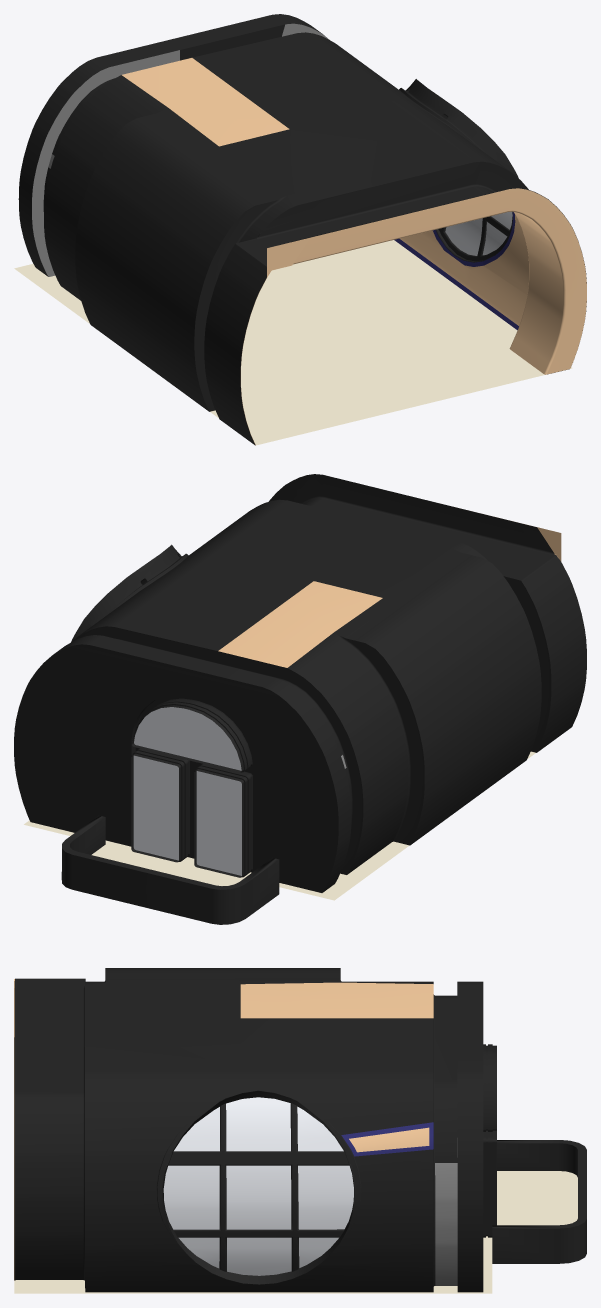
The model's file is Bedroom1.fbx.
3 views of the same model, one above another, from view 1: azimuth 30°, elevation 25°; view 2: azimuth 150°, elevation 25°; view 3: azimuth 270°, elevation 25° (orthographic).
Visible parts, largest first — view 1: Bedroom_001, BedroomWimdows_001; view 2: Bedroom_001, BedroomWimdows_001; view 3: Bedroom_001, BedroomWimdows_001.
Boxes of the visible parts, x1,y1,x2,y2 form: Bedroom_001: [14, 14, 586, 445]; BedroomWimdows_001: [445, 211, 512, 255]; Bedroom_001: [14, 474, 586, 924]; BedroomWimdows_001: [133, 707, 241, 875]; Bedroom_001: [14, 968, 586, 1293]; BedroomWimdows_001: [163, 1097, 353, 1275].
Bounding box in the file's own units: 945 × 511 × 1307.
Materials: 2 (1 with a texture image).
